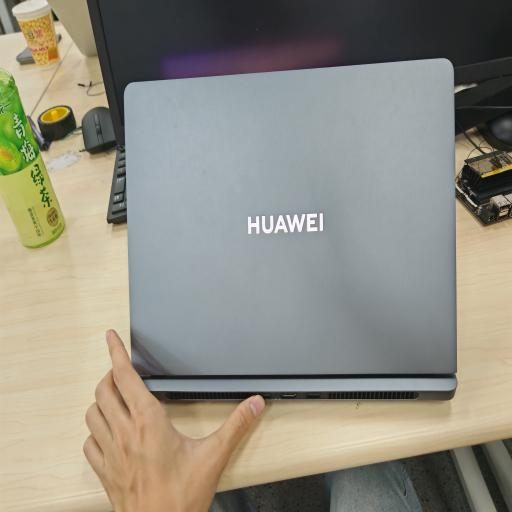laptop: (124, 59, 456, 399)
mouse: (82, 106, 116, 154), (477, 111, 512, 151)
